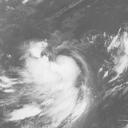cyclone: (26, 47, 87, 108)
